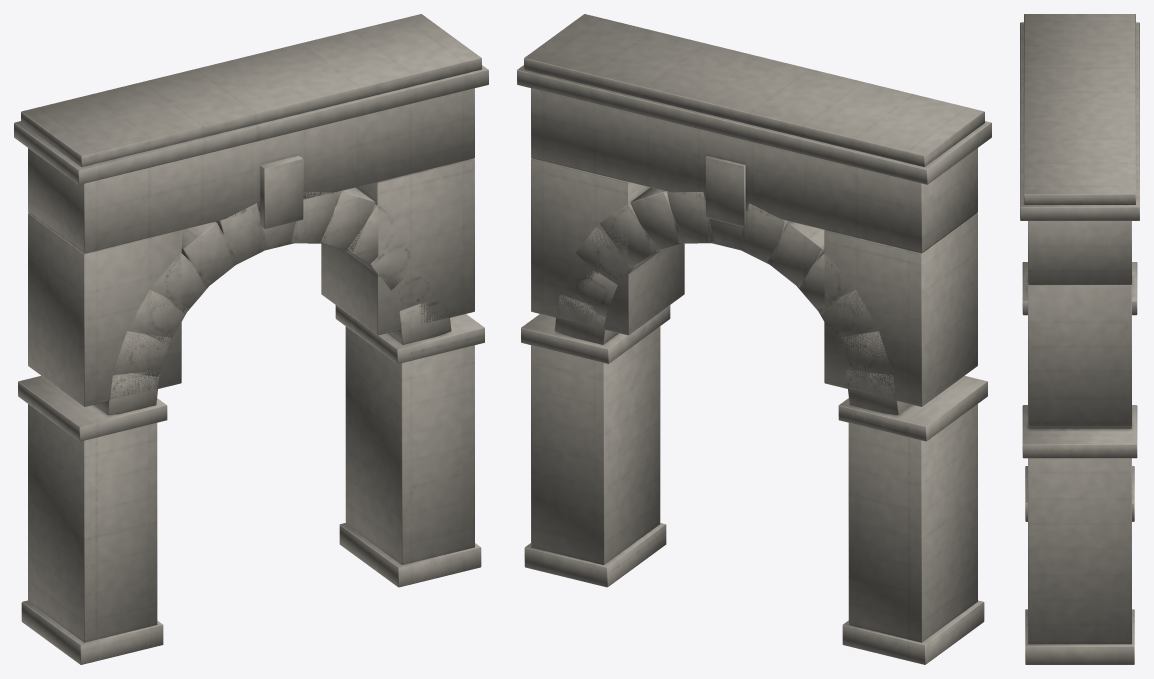
The model's file is Tunel_Arco.fbx.
3 renders of one model, left to right at view 1: azimuth 30°, elevation 25°; view 2: azimuth 150°, elevation 25°; view 3: azimuth 270°, elevation 25°, orthographic. The views are drawn at different scales.
Parts seen in each view (by area): view 1: Tunel_Arco; view 2: Tunel_Arco; view 3: Tunel_Arco.
Boxes of the visible parts, <box> form: Tunel_Arco: <box>14,14,488,664</box>; Tunel_Arco: <box>517,14,991,664</box>; Tunel_Arco: <box>1020,14,1139,664</box>.
Bounding box in the file's own units: 16.8 × 19.95 × 4.6.
